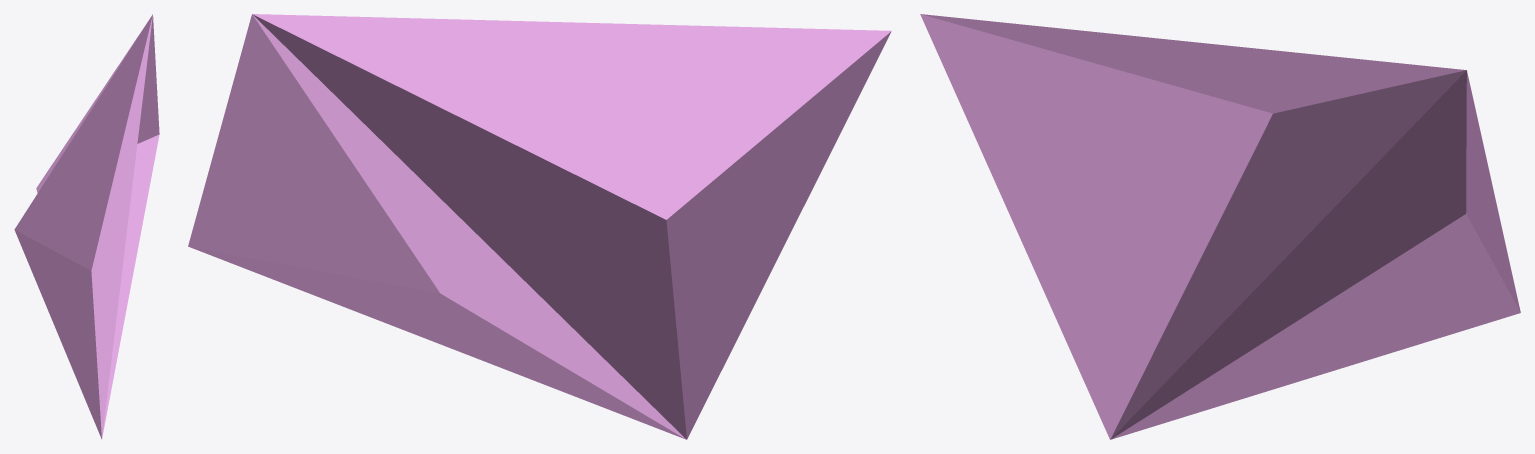
Rendered from TYPE3-1.glb.
3 renders of one model, left to right at view 1: azimuth 30°, elevation 25°; view 2: azimuth 150°, elevation 25°; view 3: azimuth 270°, elevation 25°, orthographic. The views are drawn at different scales.
Parts seen in each view (by area): view 1: TYPE3-1 (×6); view 2: TYPE3-1 (×6); view 3: TYPE3-1 (×6).
Part boxes in pixels (bbox=[...]): TYPE3-1 (×6): bbox=[14, 14, 159, 439]; TYPE3-1 (×6): bbox=[188, 14, 891, 439]; TYPE3-1 (×6): bbox=[920, 14, 1520, 439].
Bounding box in the file's own units: 4.32 × 5 × 5.47.
